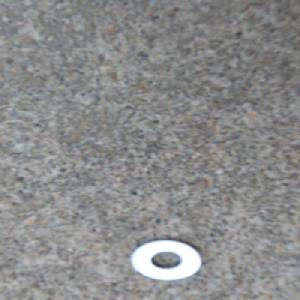Washer: (129, 238, 203, 281)
